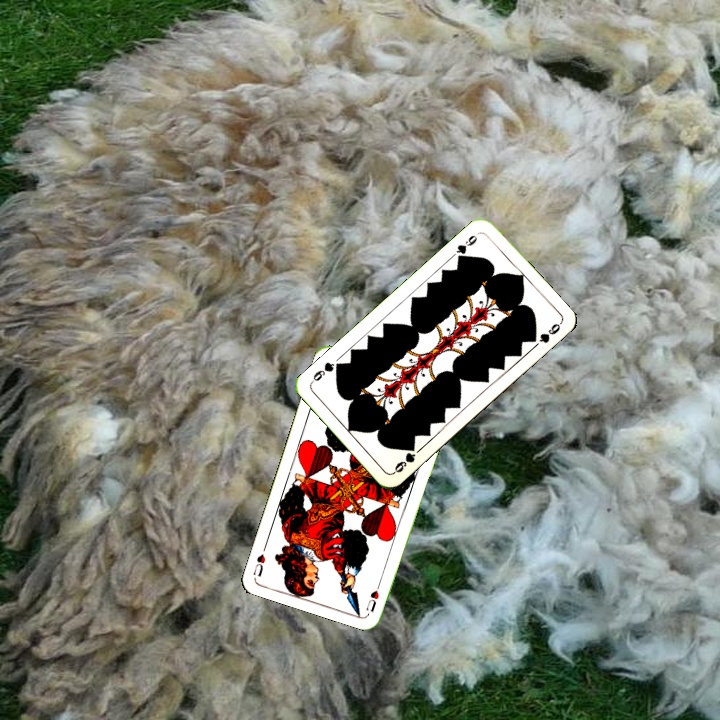G9: (389, 440, 419, 476), (452, 229, 482, 264)
HU: (362, 576, 384, 615)
